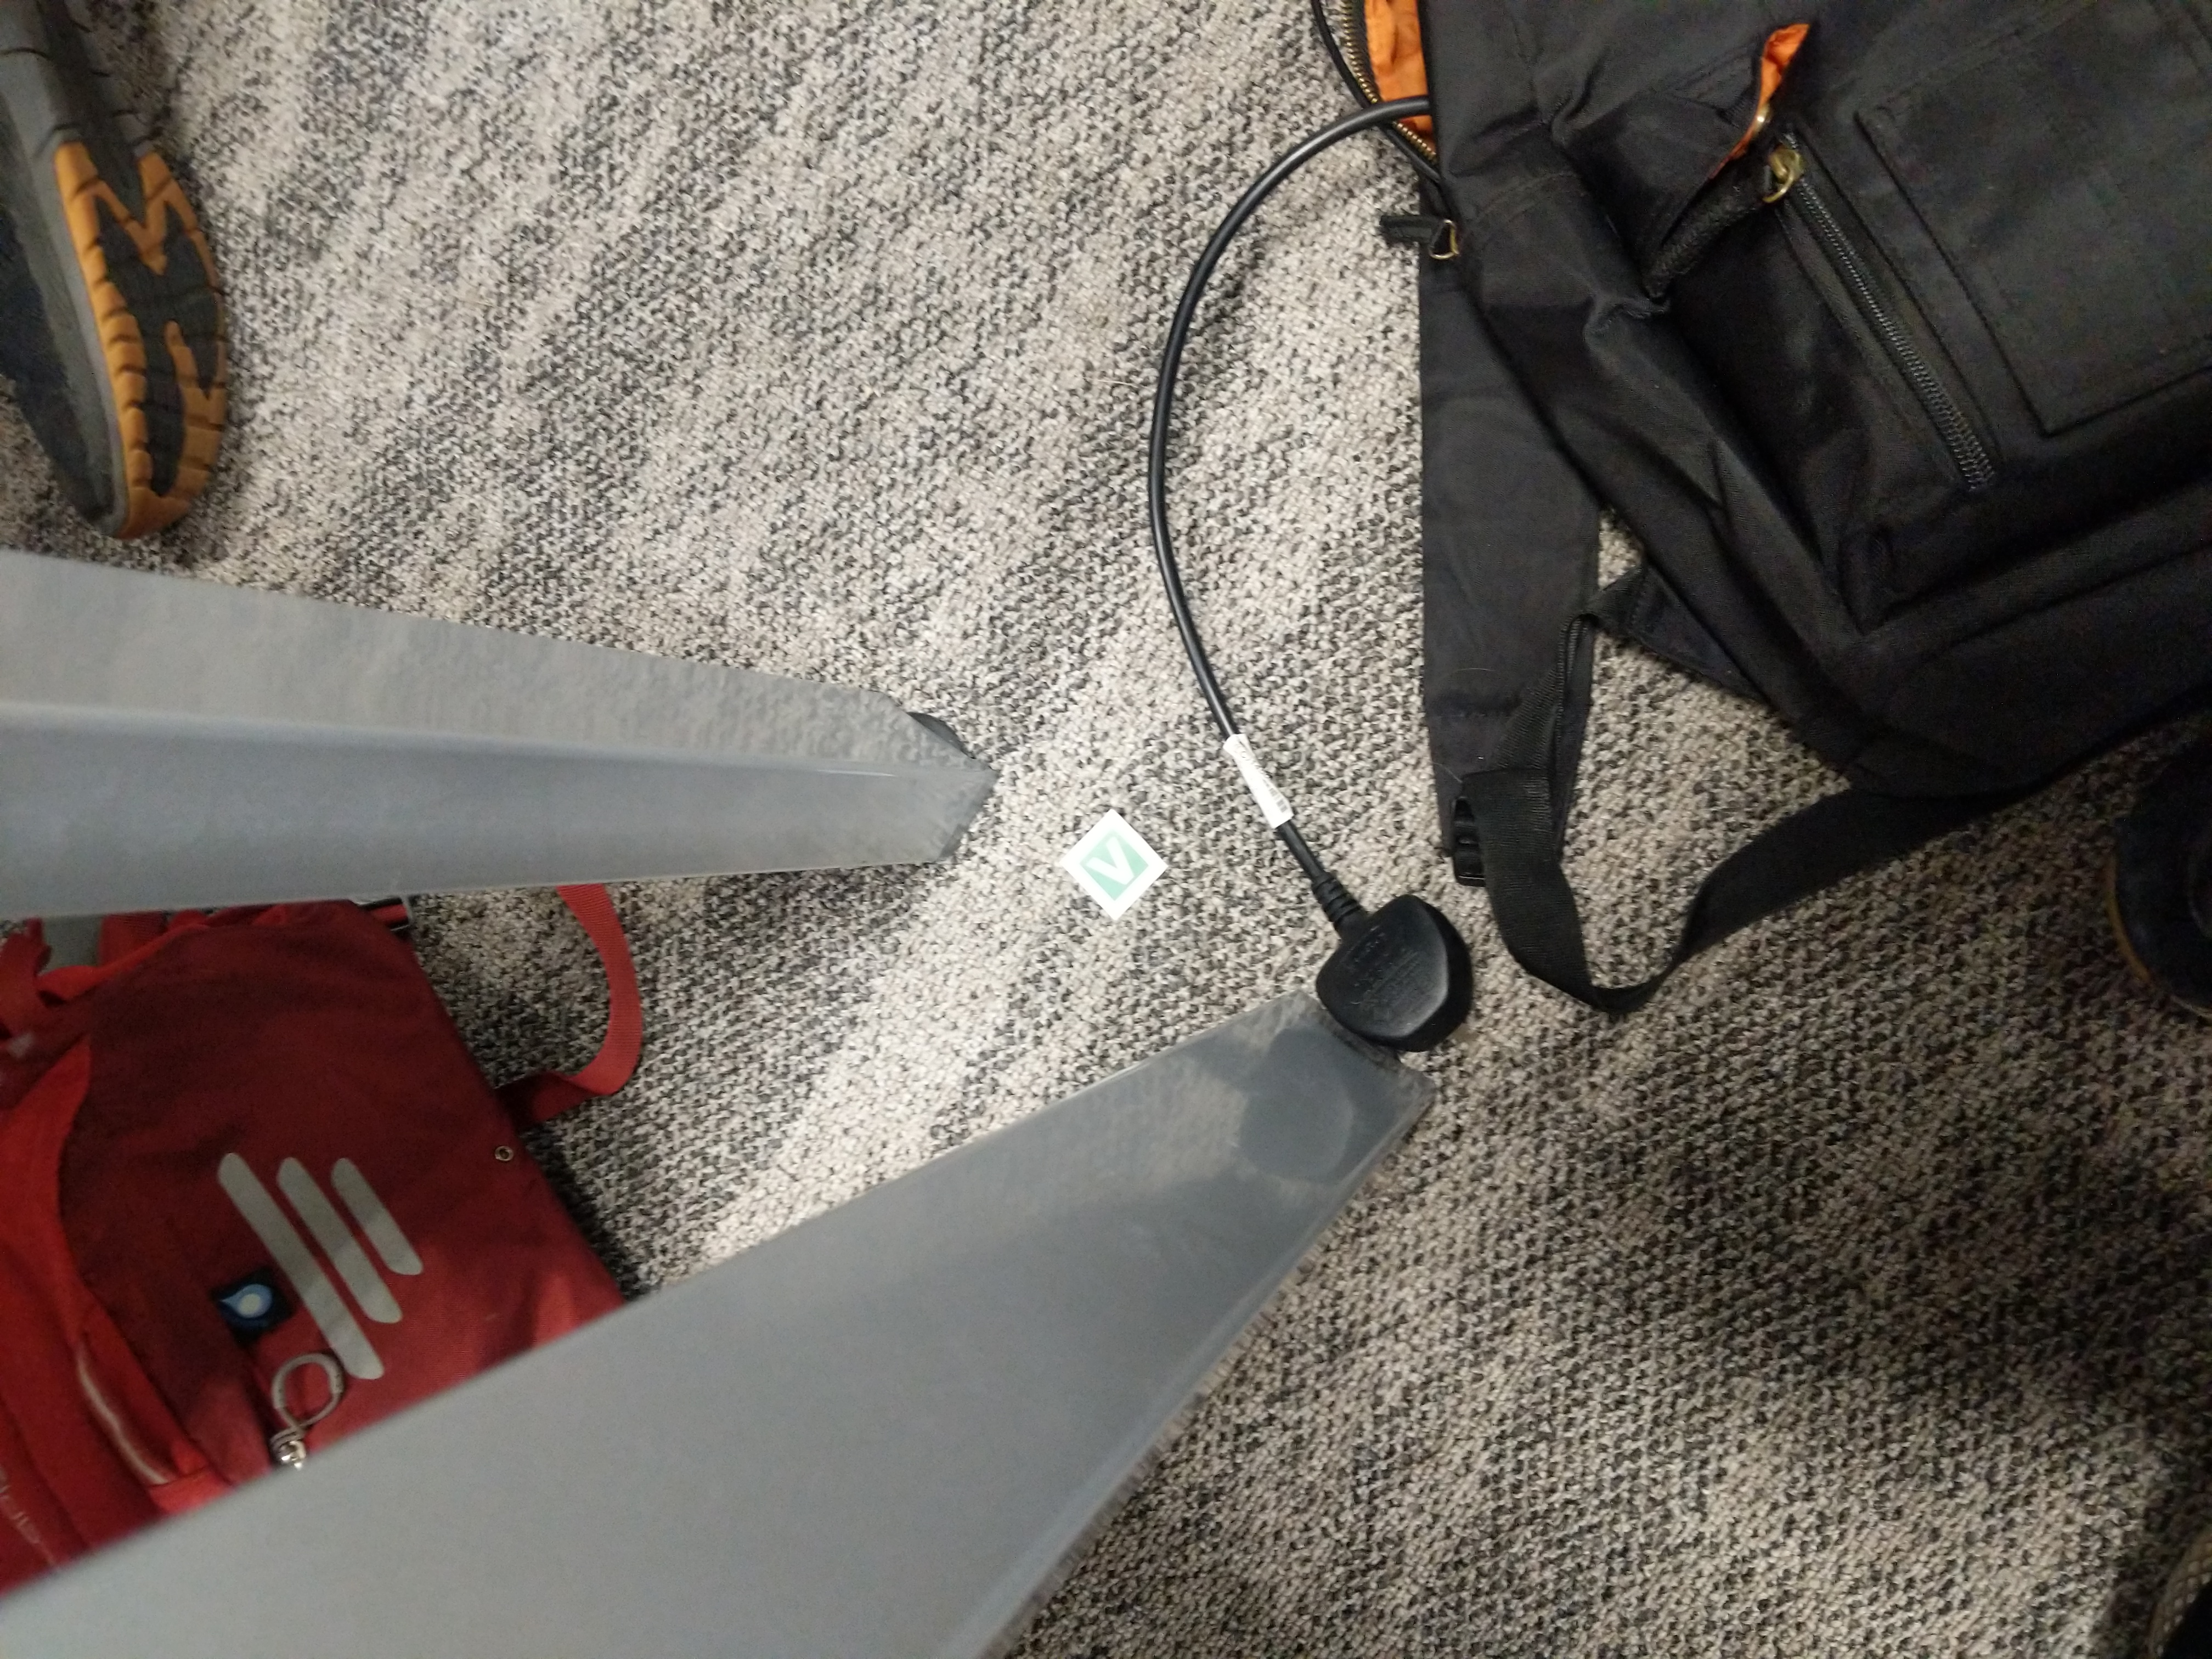marker: (1050, 810, 1172, 924)
